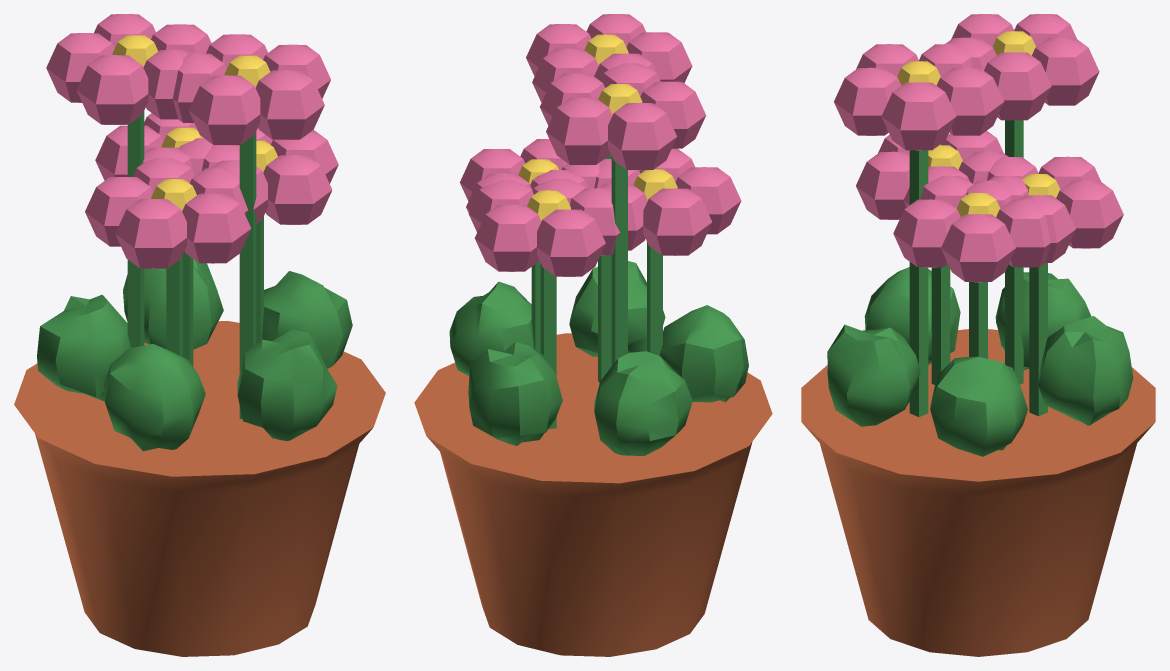
Rendered from MidGarden.fbx.
3 views of the same model, side by side, from view 1: azimuth 30°, elevation 25°; view 2: azimuth 150°, elevation 25°; view 3: azimuth 270°, elevation 25° (orthographic). The views are drawn at different scales.
Parts seen in each view (by area): view 1: MidGarden; view 2: MidGarden; view 3: MidGarden.
Boxes of the visible parts, x1,y1,x2,y2 form: MidGarden: [14, 14, 385, 656]; MidGarden: [414, 14, 772, 656]; MidGarden: [801, 14, 1155, 656].
Size of the model in its own units: 290 by 490 by 283.
